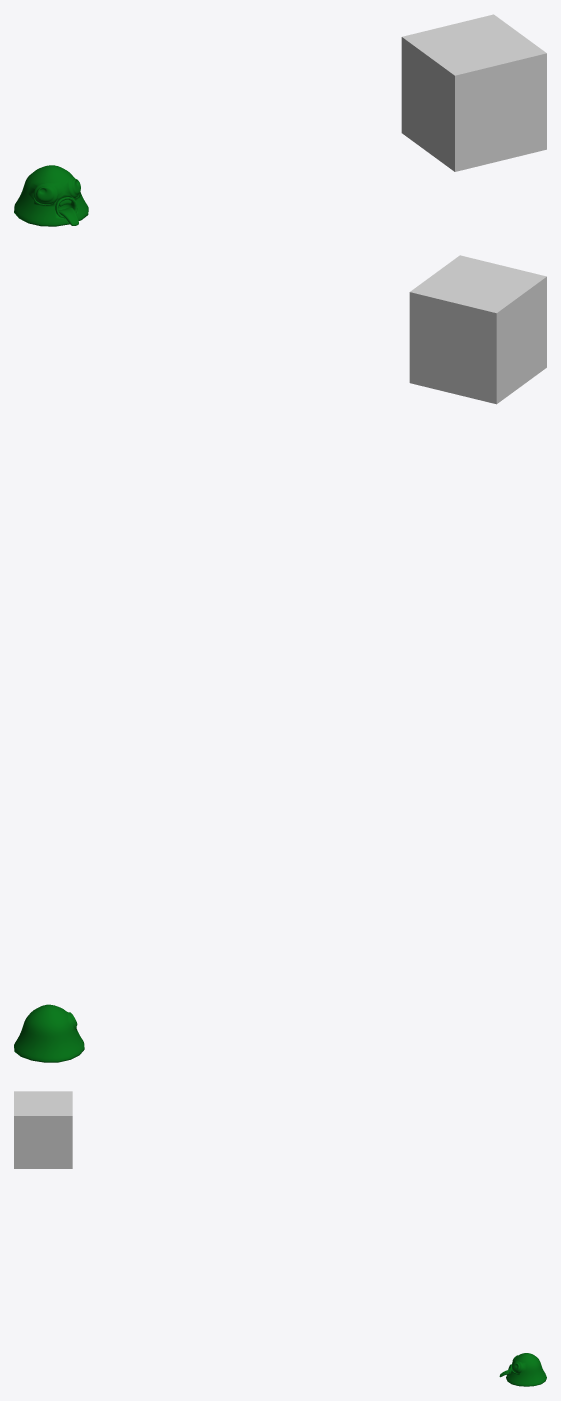
File: Blob.glb
3 renders of one model, top to bottom at view 1: azimuth 30°, elevation 25°; view 2: azimuth 150°, elevation 25°; view 3: azimuth 270°, elevation 25°, orthographic. The views are drawn at different scales.
Visible parts, largest first — view 1: Cube.001, Cube; view 2: Cube.001, Cube; view 3: Cube.001, Cube.
Boxes of the visible parts, <box> form: Cube.001: <box>401,14,546,171</box>; Cube: <box>14,165,88,226</box>; Cube.001: <box>409,255,546,404</box>; Cube: <box>14,1004,84,1062</box>; Cube.001: <box>14,1091,72,1168</box>; Cube: <box>499,1353,546,1386</box>.
Bounding box in the file's own units: 0.062 × 0.3107 × 0.5547.
